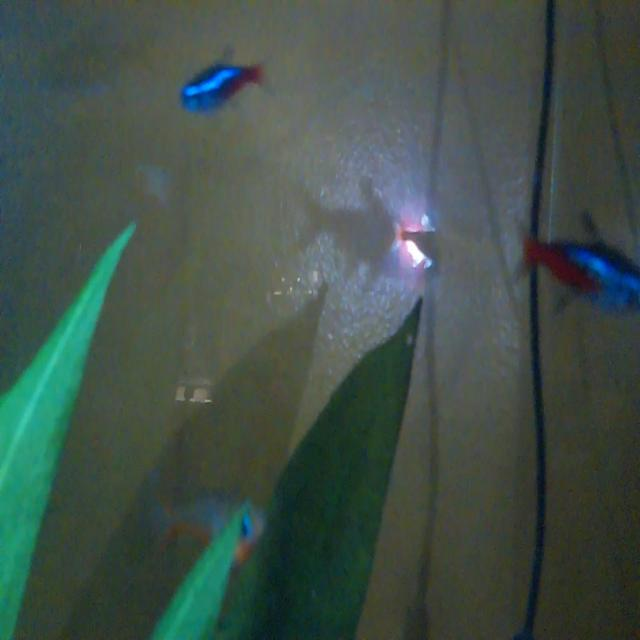fish: (521, 217, 640, 324), (168, 52, 275, 122)
